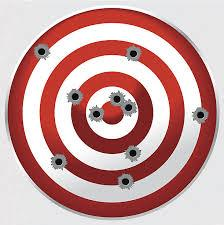target_red: (6, 6, 218, 219)
